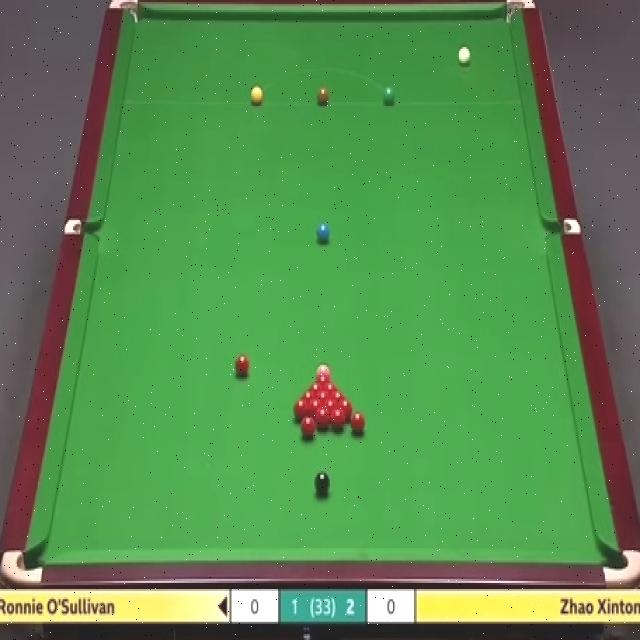black-ball: (314, 470, 330, 496)
blue-ball: (316, 222, 330, 241)
brown-ball: (316, 88, 330, 104)
green-ball: (382, 84, 396, 108)
pink-ball: (316, 364, 332, 381)
red-ball: (331, 406, 346, 434), (294, 397, 310, 422), (350, 411, 365, 436), (300, 414, 316, 436), (316, 406, 331, 428), (322, 399, 339, 418), (236, 354, 249, 378), (337, 399, 353, 418), (301, 388, 317, 402), (330, 389, 346, 403), (310, 400, 321, 420), (316, 389, 330, 404), (323, 379, 336, 395), (309, 381, 324, 394)
white-ball: (458, 47, 469, 63)
yellow-ball: (249, 84, 264, 106)
